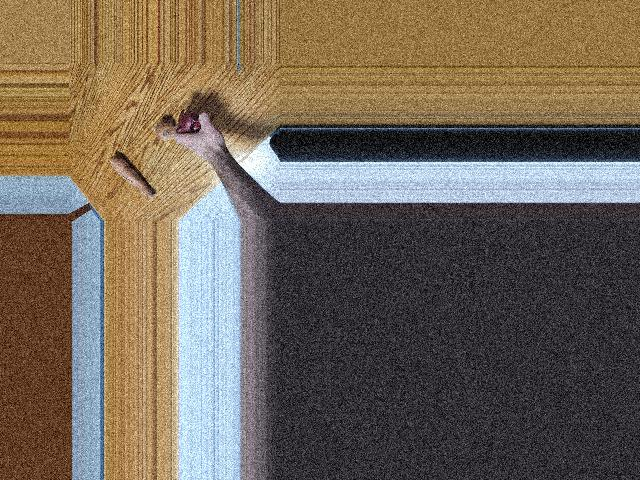onion: (154, 118, 178, 140)
